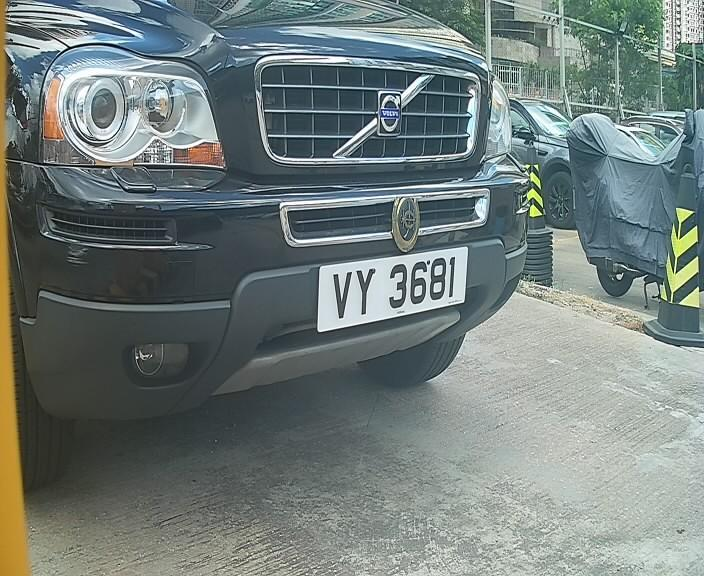License Plate: (305, 242, 469, 335)
